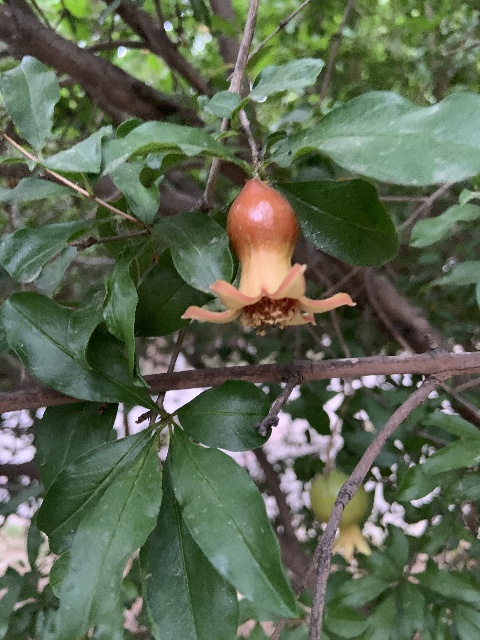early-fruit: (184, 178, 356, 334)
mid-growth: (310, 471, 376, 561)
